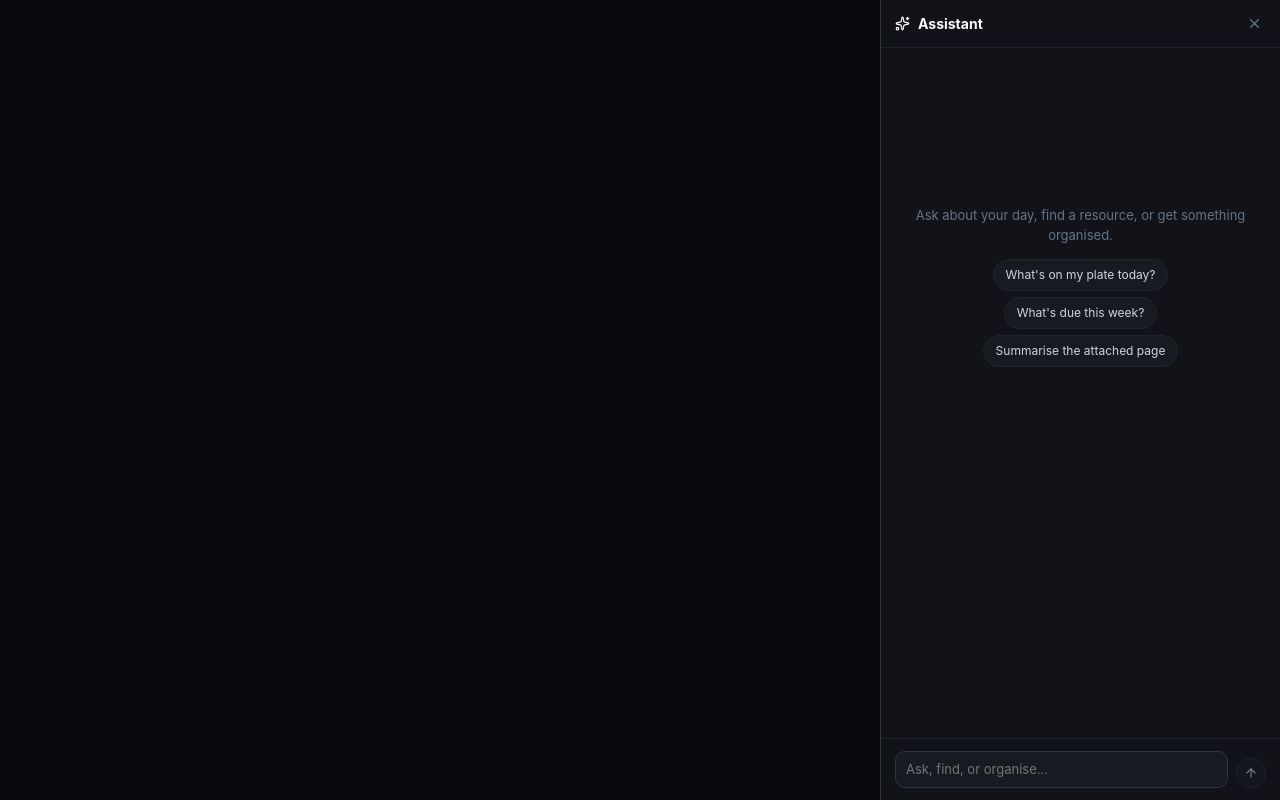
Test: AssistantPane › shows example prompts and sends the first turn
Click the button "What's on my plate today?" at (1080, 275), box x1=992 y1=259 x2=1168 y2=291
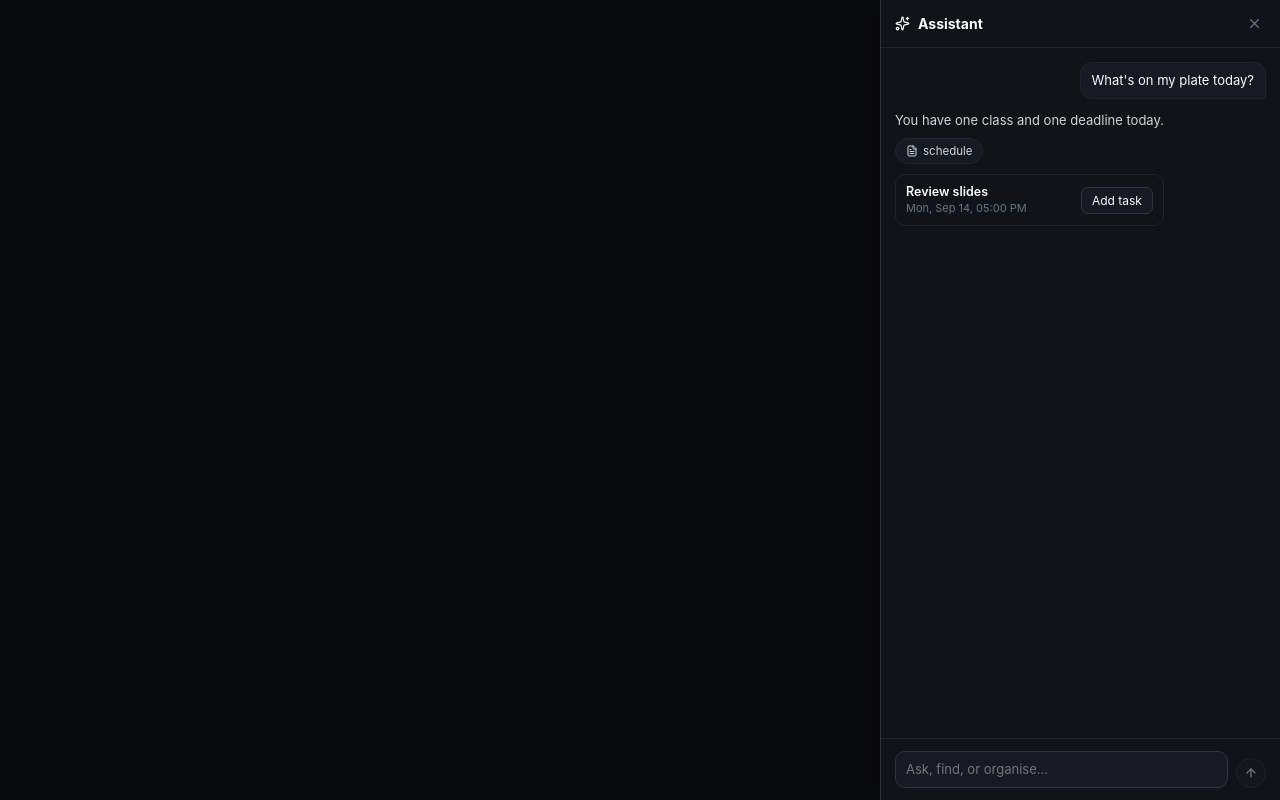
Result: the text "You have one class and one deadline today." is shown at x1=895 y1=111 x2=1164 y2=130
